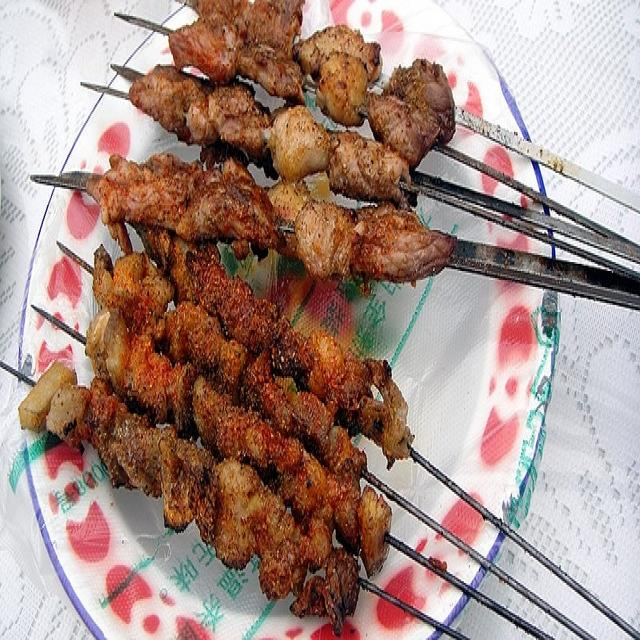烧串烤肉: (24, 19, 592, 618)
